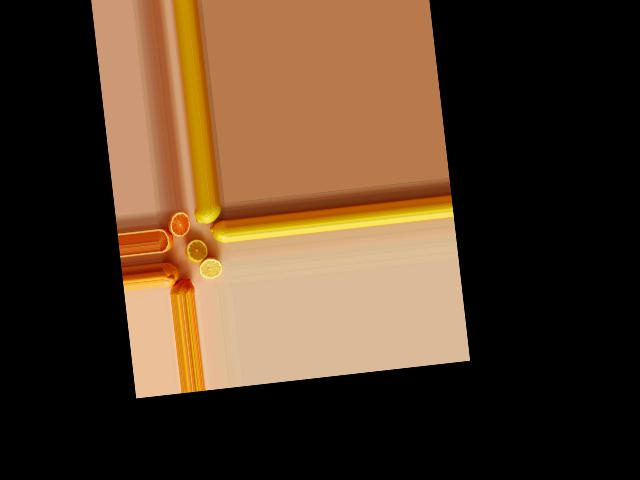lemon: (166, 274, 196, 296)
